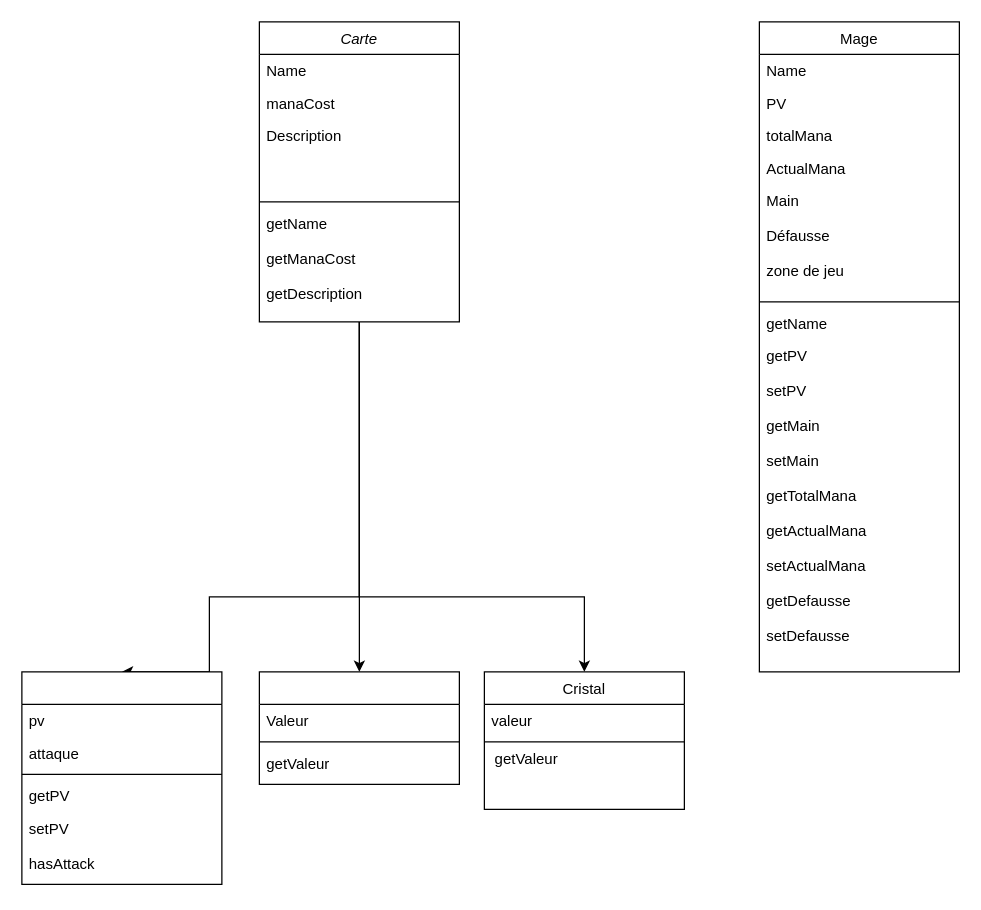
Some shapes in this 981 by 910 pixel diagram are drawn without their labels. The shapes that lost their labels are listed below. From the top down, each one's box as (x1, y1, x2, y2) in pixels, then its label:
(258, 671, 459, 784): Blast
(21, 671, 222, 884): Creature
